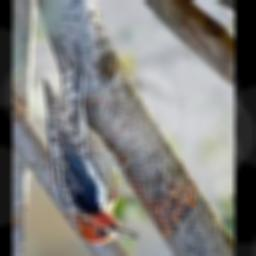Woodpecker: (43, 39, 139, 244)
